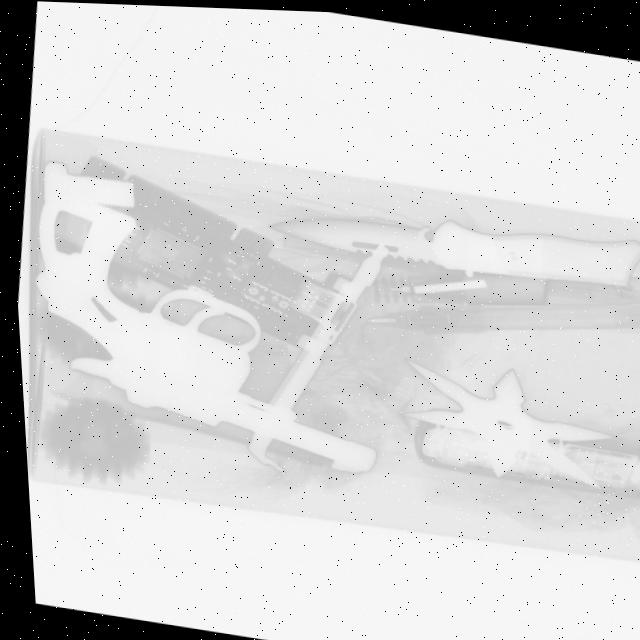knife: (259, 174, 640, 300)
pistol: (9, 183, 399, 475)
